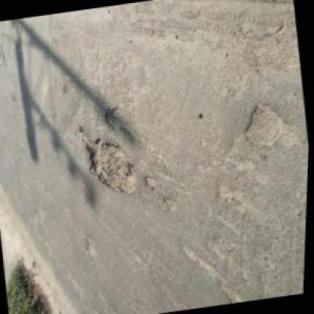Hueco: (75, 119, 143, 202), (240, 97, 300, 154), (103, 103, 137, 139), (220, 281, 250, 305), (83, 231, 102, 260)
